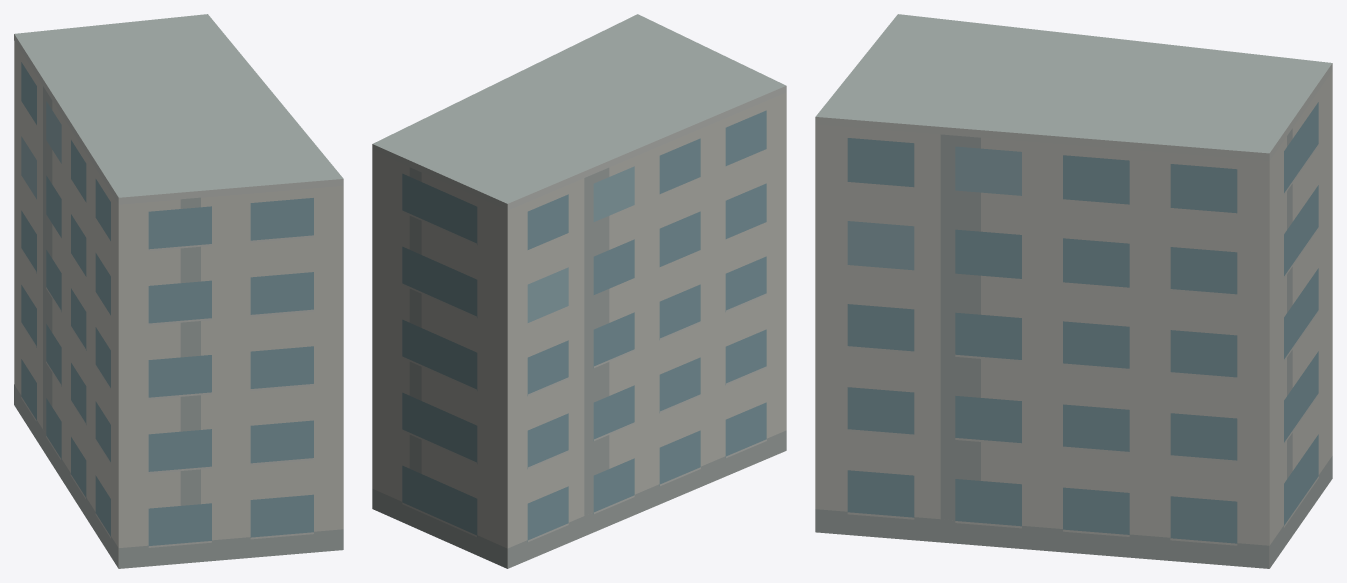
Rendered from survey-upis-32737300.glb.
The picture shows the model from 3 angles, left to right: view 1: azimuth 30°, elevation 25°; view 2: azimuth 150°, elevation 25°; view 3: azimuth 270°, elevation 25°; orthographic projection. The views are drawn at different scales.
Parts seen in each view (by area): view 1: survey-upis-32737300.tmp; view 2: survey-upis-32737300.tmp; view 3: survey-upis-32737300.tmp.
Part boxes in pixels (x1,y1,x2,y2): survey-upis-32737300.tmp: (14, 14, 343, 568); survey-upis-32737300.tmp: (372, 14, 786, 568); survey-upis-32737300.tmp: (815, 14, 1332, 568).
Size of the model in its own units: 9.65 by 13.4 by 15.13.
